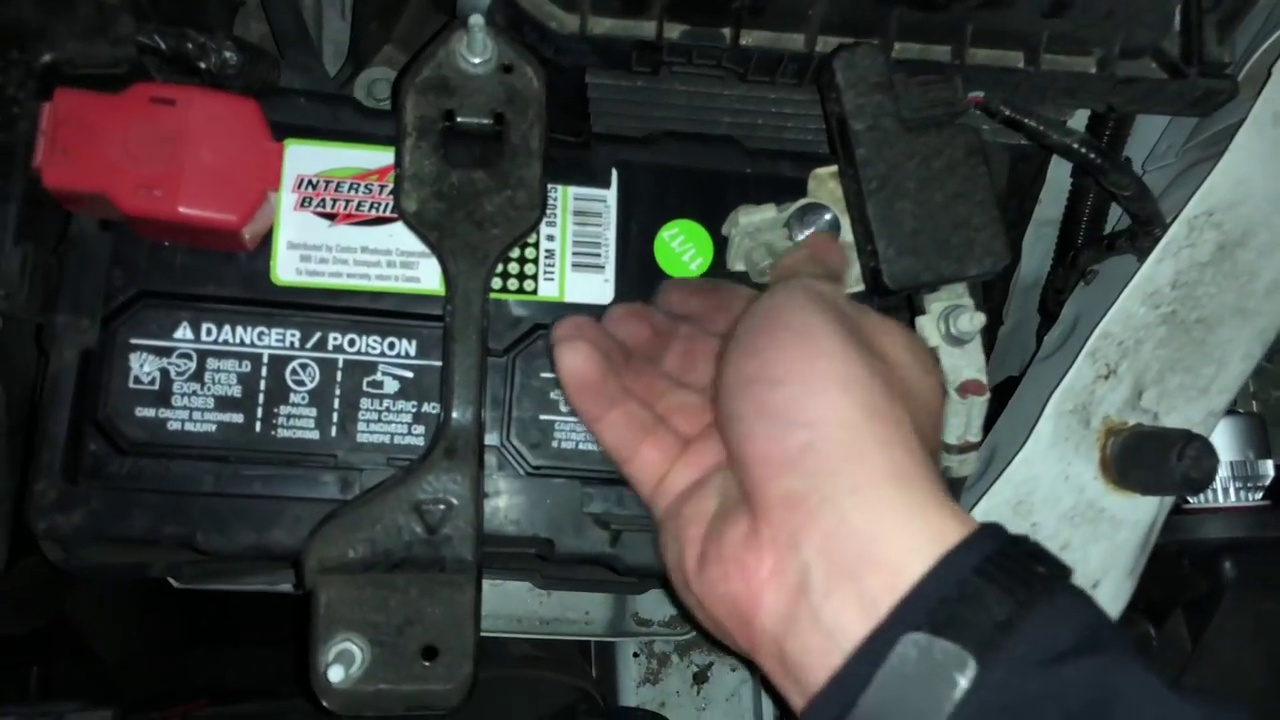battery: (93, 81, 864, 545)
neg_connected: (708, 159, 878, 294)
neg_touched: (684, 163, 857, 366)
pos_connected: (22, 61, 319, 264)
